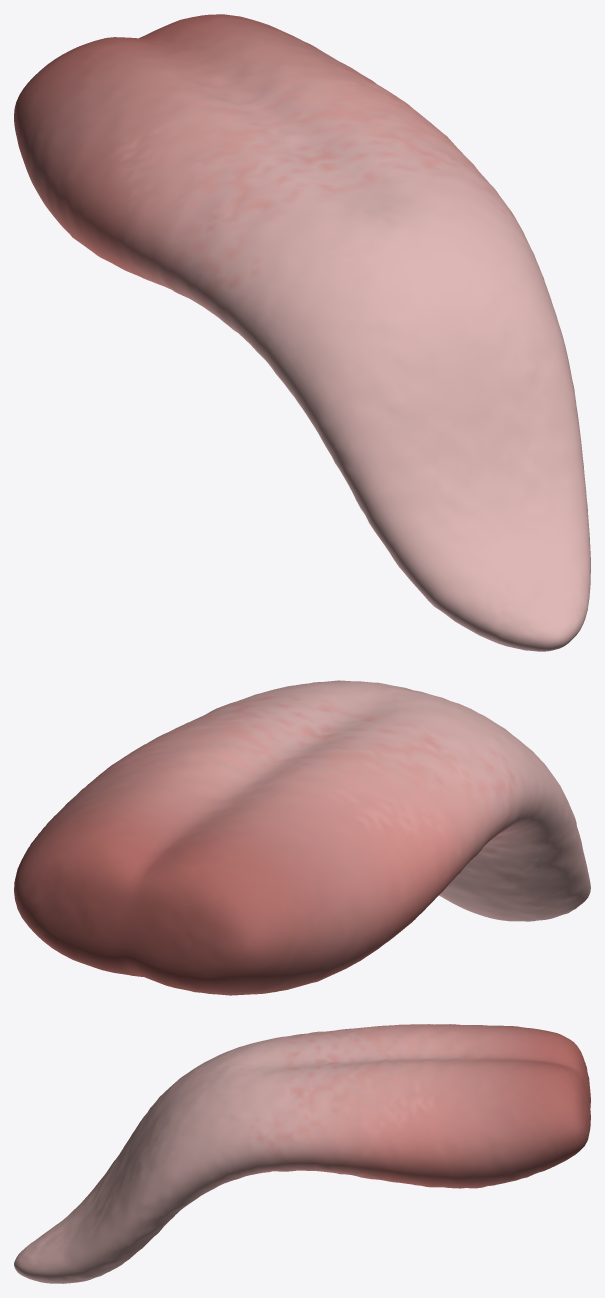
The model's file is 14384-50c7cf91-2cb1-4bac-926b-2c225c2c2243.glb.
The picture shows the model from 3 angles, top to bottom: view 1: azimuth 30°, elevation 25°; view 2: azimuth 150°, elevation 25°; view 3: azimuth 270°, elevation 25°; orthographic projection. The views are drawn at different scales.
Visible parts, largest first — view 1: Object_21.Mesh; view 2: Object_21.Mesh; view 3: Object_21.Mesh.
Boxes of the visible parts, x1,y1,x2,y2 form: Object_21.Mesh: [14, 14, 590, 651]; Object_21.Mesh: [14, 680, 590, 995]; Object_21.Mesh: [14, 1024, 590, 1283].
Size of the model in its own units: 0.00198 by 0.00191 by 0.0044.
